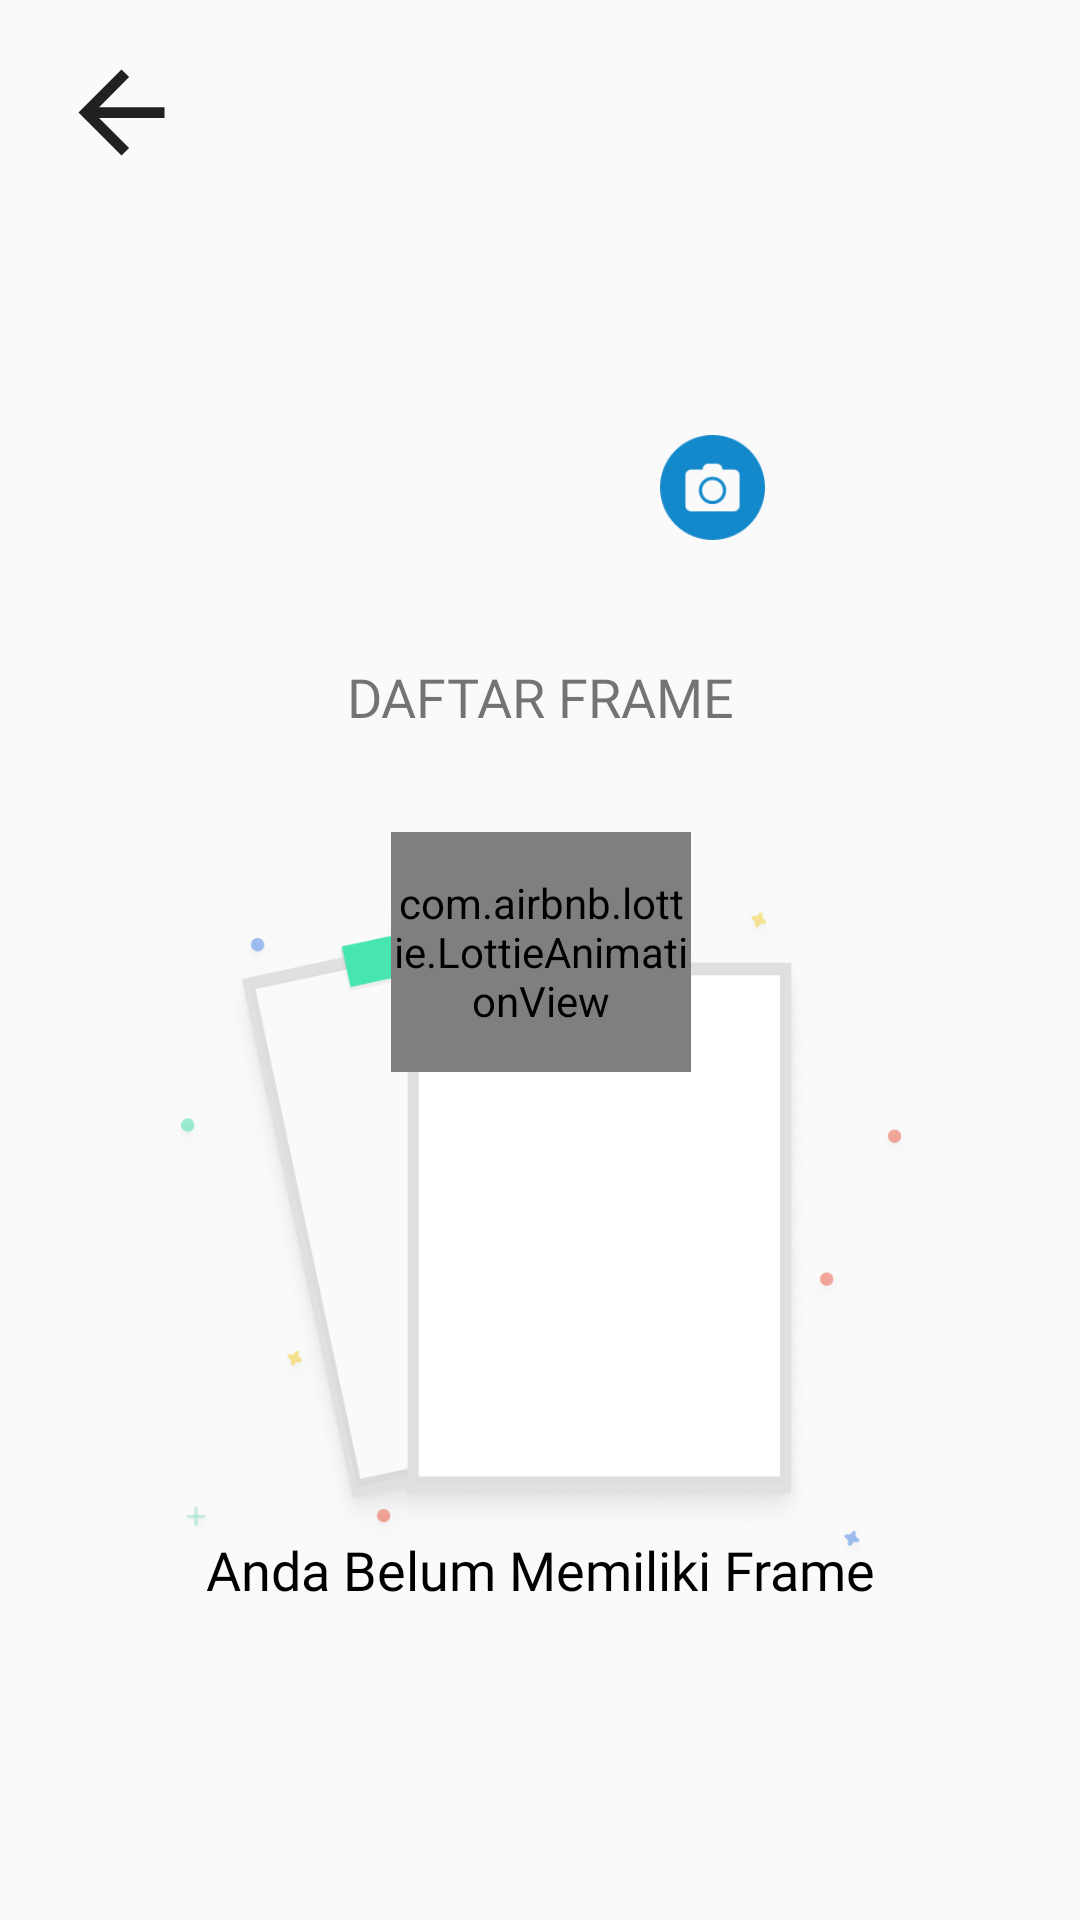

Named icons in this screenshot (1080 x 1920) and their centers, point (x, y):
Back Button: point (121, 112)
Choose Photo Profile: point (712, 487)
